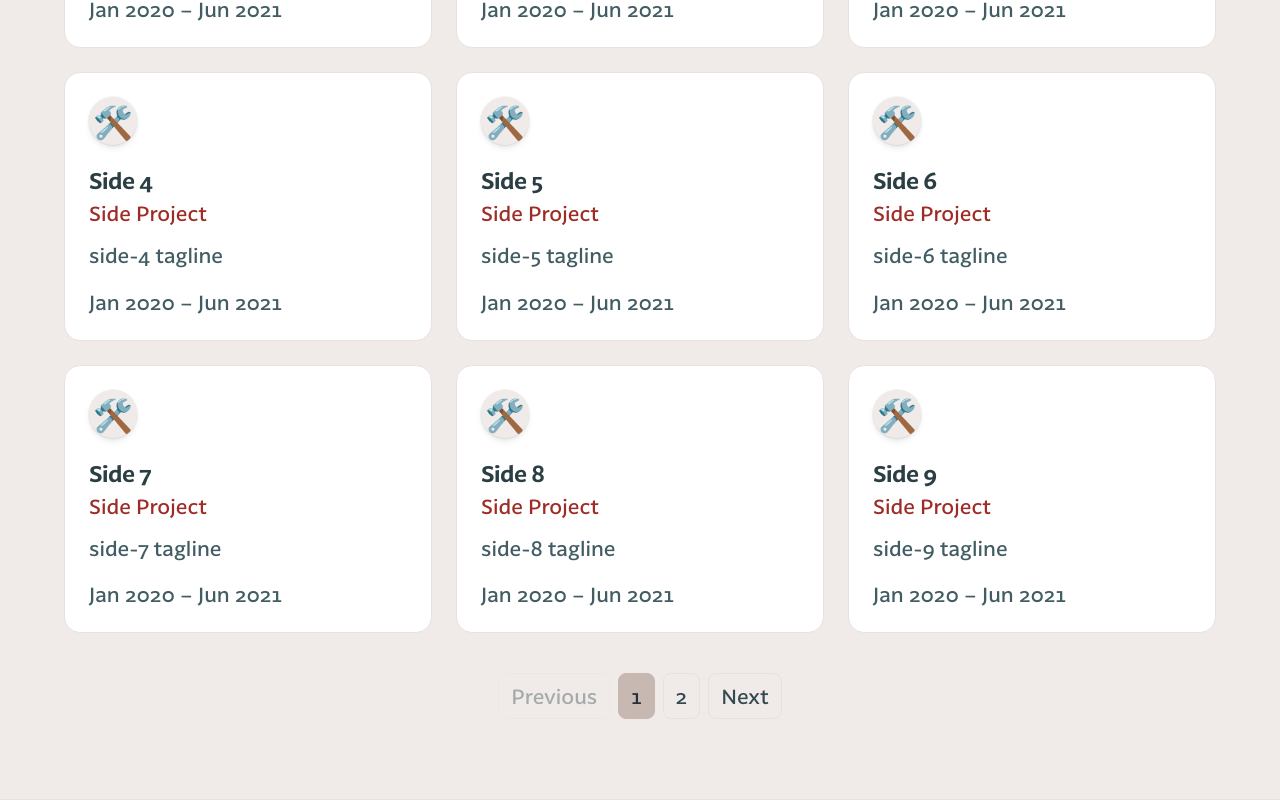
ProjectsGridClient › shows pinned featured rows and a paginated grid of the rest
(page scrolled)
Expected: the link "Side 11" is not shown
Step 1. Click the button "2" → x=681, y=696, box [663,673,700,719]
(page scrolled)
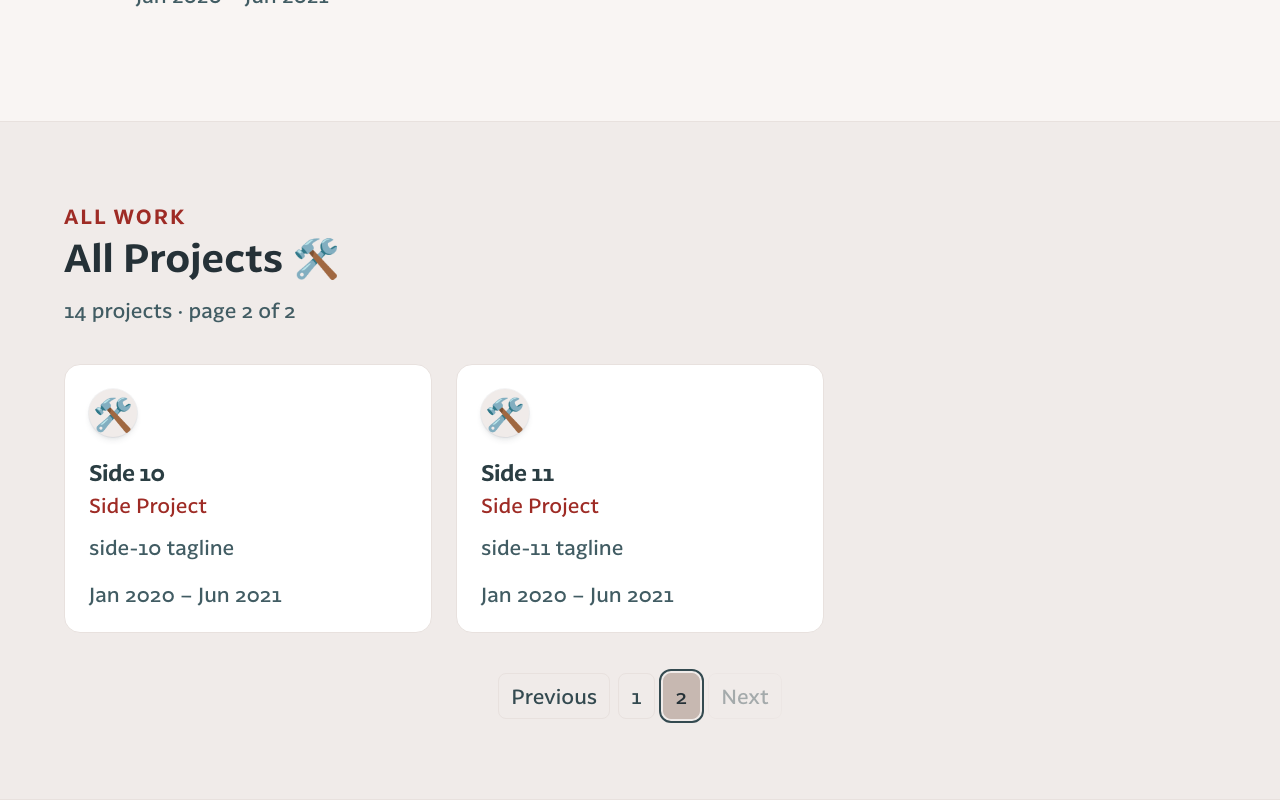
Expected: the text "14 projects · page 2 of 2" is shown, [64,298,296,322]
Expected: the link named "Side 11" is shown, [457,365,823,632]
